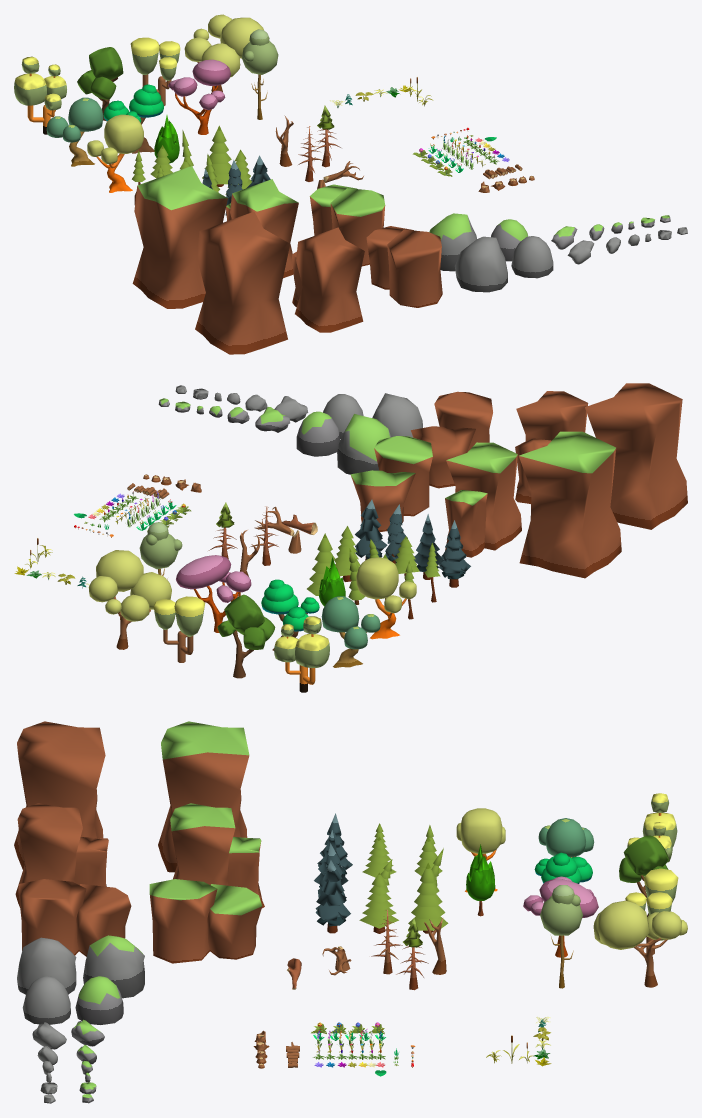
File: LowPolyNature_Free.fbx
3 renders of one model, top to bottom at view 1: azimuth 30°, elevation 25°; view 2: azimuth 150°, elevation 25°; view 3: azimuth 270°, elevation 25°, orthographic. The views are drawn at different scales.
Visible parts, largest first — view 1: Ground.005_Mat_tree_0, Ground_Mat_tree_0, Ground.003_Mat_tree_0, Ground.002_Mat_tree_0, Ground.001_Mat_tree_0, Ground.004_Mat_tree_0, Tree.016_Mat_tree_0, Stone.005_Mat_tree_0, Tree.021_Mat_tree_0, Tree.011_Mat_tree_0, Tree.014_Mat_tree_0, Tree.012_Mat_tree_0 (+10 smaller); view 2: Ground_Mat_tree_0, Ground.005_Mat_tree_0, Ground.004_Mat_tree_0, Ground.001_Mat_tree_0, Ground.002_Mat_tree_0, Tree.016_Mat_tree_0, Ground.003_Mat_tree_0, Tree.011_Mat_tree_0, Tree.014_Mat_tree_0, Tree.021_Mat_tree_0, Tree.019_Mat_tree_0, Tree.012_Mat_tree_0 (+19 smaller); view 3: Ground.001_Mat_tree_0, Ground_Mat_tree_0, Ground.005_Mat_tree_0, Ground.002_Mat_tree_0, Ground.004_Mat_tree_0, Ground.003_Mat_tree_0, Tree.016_Mat_tree_0, Stone.011_Mat_tree_0, Stone.005_Mat_tree_0, Tree.013_Mat_tree_0, Stone.010_Mat_tree_0, Stone.004_Mat_tree_0 (+16 smaller).
Boxes of the visible parts, x1,y1,x2,y2 form: Ground.005_Mat_tree_0: (195, 211, 290, 354); Ground_Mat_tree_0: (132, 166, 227, 308); Ground.003_Mat_tree_0: (292, 227, 364, 332); Ground.002_Mat_tree_0: (366, 226, 442, 307); Ground.001_Mat_tree_0: (309, 184, 385, 266); Ground.004_Mat_tree_0: (226, 179, 298, 278); Tree.016_Mat_tree_0: (184, 14, 263, 91); Stone.005_Mat_tree_0: (454, 236, 507, 292); Tree.021_Mat_tree_0: (14, 56, 66, 134); Tree.011_Mat_tree_0: (87, 114, 143, 192); Tree.014_Mat_tree_0: (168, 59, 230, 134); Tree.012_Mat_tree_0: (46, 97, 103, 166); Ground_Mat_tree_0: (519, 431, 621, 578); Ground.005_Mat_tree_0: (585, 383, 687, 529); Ground.004_Mat_tree_0: (445, 442, 521, 557); Ground.001_Mat_tree_0: (350, 436, 432, 531); Ground.002_Mat_tree_0: (411, 391, 492, 488); Tree.016_Mat_tree_0: (89, 550, 171, 649); Ground.003_Mat_tree_0: (515, 391, 588, 503); Tree.011_Mat_tree_0: (356, 557, 416, 639); Tree.014_Mat_tree_0: (176, 555, 251, 632); Tree.021_Mat_tree_0: (274, 616, 329, 692); Tree.019_Mat_tree_0: (217, 594, 275, 678); Tree.012_Mat_tree_0: (321, 596, 380, 667); Ground.001_Mat_tree_0: (149, 879, 262, 963); Ground_Mat_tree_0: (158, 721, 249, 872); Ground.005_Mat_tree_0: (14, 721, 105, 869); Ground.002_Mat_tree_0: (18, 879, 131, 956); Ground.004_Mat_tree_0: (170, 803, 264, 908); Ground.003_Mat_tree_0: (15, 803, 108, 907); Tree.016_Mat_tree_0: (593, 900, 687, 987); Stone.011_Mat_tree_0: (83, 935, 144, 998); Stone.005_Mat_tree_0: (17, 937, 76, 994); Tree.013_Mat_tree_0: (540, 885, 582, 988); Stone.010_Mat_tree_0: (75, 976, 123, 1024); Stone.004_Mat_tree_0: (22, 976, 70, 1024).
Size of the model in its own units: 1419 by 309 by 1517.
